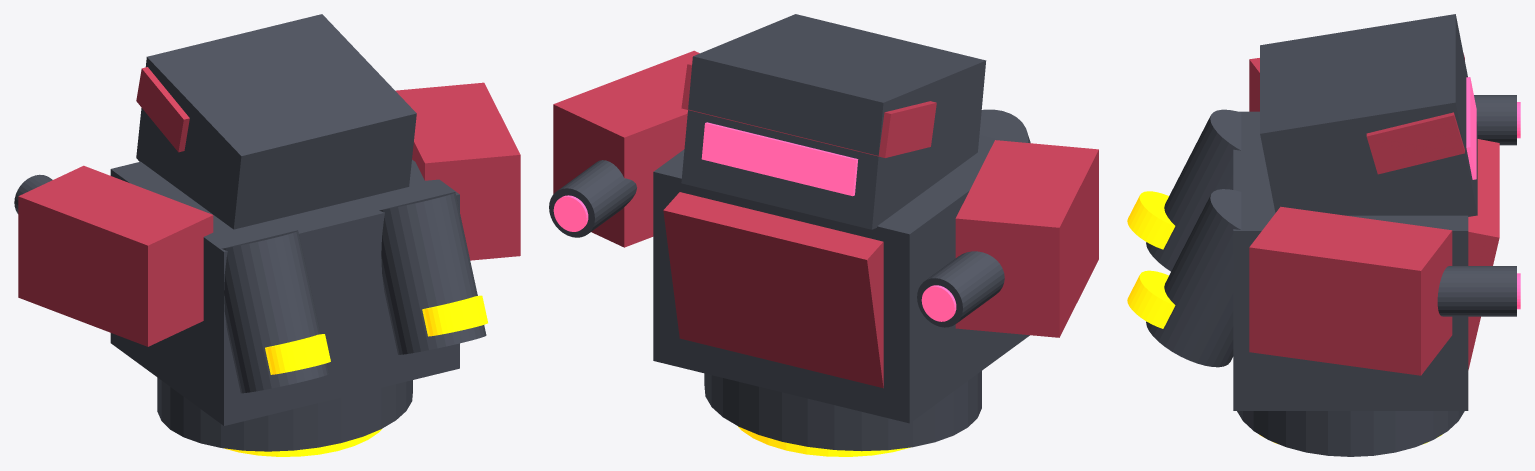
Rendered from enemy-hunter.glb.
The picture shows the model from 3 angles, left to right: view 1: azimuth 30°, elevation 25°; view 2: azimuth 150°, elevation 25°; view 3: azimuth 270°, elevation 25°; orthographic projection. The views are drawn at different scales.
Visible parts, largest first — view 1: Hunter_Head, Hunter_Torso, Hunter_Shoulder_L, Hunter_Shoulder_R, Hunter_Exhaust_L, Hunter_Exhaust_R, Hunter_HoverBase, Hunter_Brow, Hunter_HeatCore_R, Hunter_HeatCore_L, Hunter_BaseGlow; view 2: Hunter_Head, Hunter_ChestPlate, Hunter_Torso, Hunter_Shoulder_L, Hunter_Shoulder_R, Hunter_HoverBase, Hunter_Visor, Hunter_Cannon_L, Hunter_Cannon_R, Hunter_Brow, Hunter_Exhaust_L, Hunter_BaseGlow (+2 smaller); view 3: Hunter_Head, Hunter_Shoulder_R, Hunter_Torso, Hunter_Exhaust_R, Hunter_HoverBase, Hunter_Exhaust_L, Hunter_Cannon_R, Hunter_Brow, Hunter_ChestPlate, Hunter_Cannon_L, Hunter_HeatCore_R, Hunter_HeatCore_L (+2 smaller).
Part boxes in pixels (bbox=[...]): Hunter_Head: bbox=[136, 14, 416, 229]; Hunter_Torso: bbox=[110, 159, 459, 425]; Hunter_Shoulder_L: bbox=[18, 165, 213, 346]; Hunter_Shoulder_R: bbox=[395, 82, 520, 260]; Hunter_Exhaust_L: bbox=[222, 230, 328, 393]; Hunter_Exhaust_R: bbox=[379, 192, 486, 354]; Hunter_HoverBase: bbox=[157, 377, 412, 451]; Hunter_Brow: bbox=[136, 67, 189, 152]; Hunter_HeatCore_R: bbox=[422, 295, 487, 336]; Hunter_HeatCore_L: bbox=[265, 334, 330, 374]; Hunter_BaseGlow: bbox=[224, 428, 382, 456]; Hunter_Head: bbox=[681, 14, 986, 229]; Hunter_ChestPlate: bbox=[663, 192, 883, 388]; Hunter_Torso: bbox=[653, 135, 1029, 423]; Hunter_Shoulder_L: bbox=[955, 140, 1098, 337]; Hunter_Shoulder_R: bbox=[553, 50, 699, 247]; Hunter_HoverBase: bbox=[704, 371, 981, 451]; Hunter_Visor: bbox=[701, 122, 858, 196]; Hunter_Cannon_L: bbox=[917, 251, 1004, 327]; Hunter_Cannon_R: bbox=[549, 160, 636, 237]; Hunter_Brow: bbox=[681, 63, 936, 157]; Hunter_Exhaust_L: bbox=[979, 109, 1030, 143]; Hunter_BaseGlow: bbox=[738, 426, 909, 456]; Hunter_Head: bbox=[1260, 14, 1477, 216]; Hunter_Shoulder_R: bbox=[1249, 206, 1452, 375]; Hunter_Torso: bbox=[1233, 111, 1468, 410]; Hunter_Exhaust_R: bbox=[1146, 189, 1241, 367]; Hunter_HoverBase: bbox=[1237, 411, 1464, 456]; Hunter_Exhaust_L: bbox=[1146, 109, 1241, 271]; Hunter_Cannon_R: bbox=[1437, 266, 1516, 316]; Hunter_Brow: bbox=[1366, 53, 1464, 174]; Hunter_ChestPlate: bbox=[1468, 139, 1499, 369]; Hunter_Cannon_L: bbox=[1474, 95, 1516, 145]; Hunter_HeatCore_R: bbox=[1127, 270, 1175, 328]; Hunter_HeatCore_L: bbox=[1127, 191, 1175, 249].
Size of the model in its own units: 1.54 by 1.08 by 1.09.
